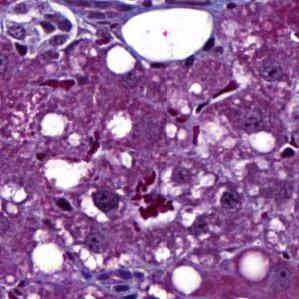ballooning: (121, 8, 214, 62)
